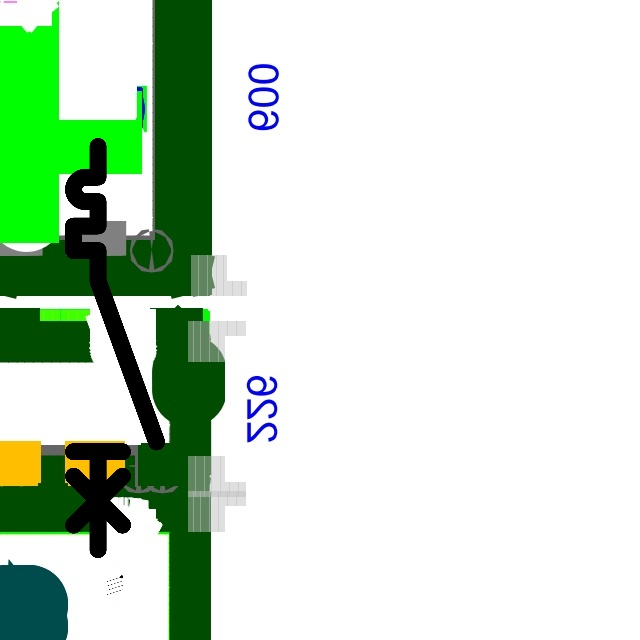interruptor_termomagnetico: (63, 136, 167, 560)
